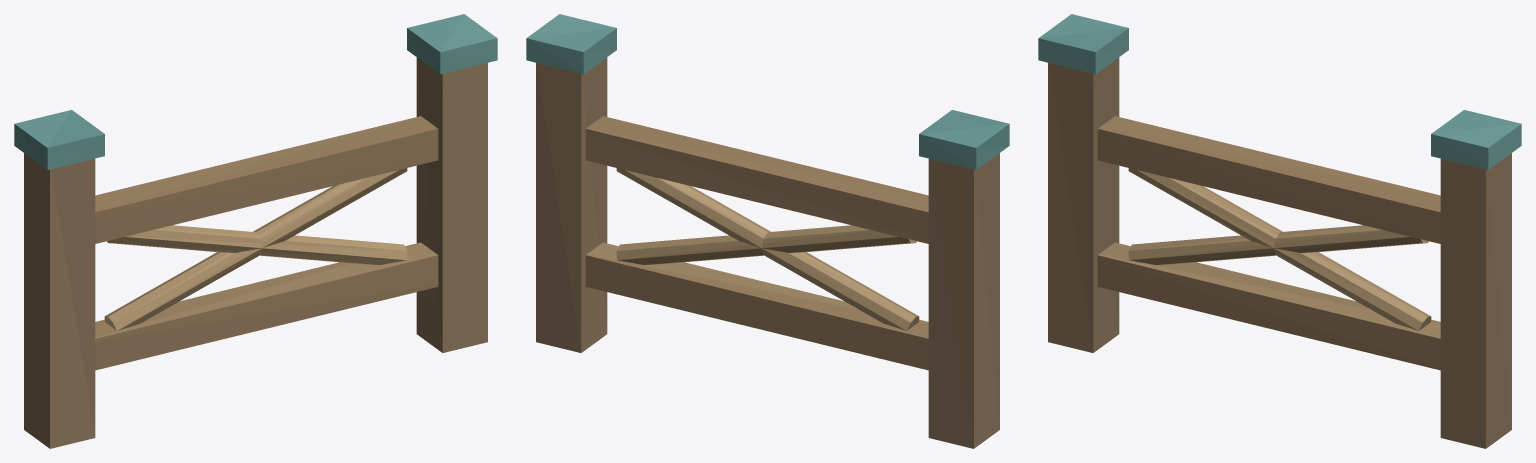
File: fence.glb
3 renders of one model, left to right at view 1: azimuth 30°, elevation 25°; view 2: azimuth 150°, elevation 25°; view 3: azimuth 330°, elevation 25°, orthographic.
Parts seen in each view (by area): view 1: post_-0.65, post_0.65, rail_0.65, rail_0.25, cross_a, cross_b, cap_-0.65, cap_0.65; view 2: post_-0.65, post_0.65, rail_0.65, rail_0.25, cross_a, cross_b, cap_-0.65, cap_0.65; view 3: post_0.65, post_-0.65, rail_0.65, rail_0.25, cross_b, cross_a, cap_0.65, cap_-0.65.
Boxes of the visible parts, x1,y1,x2,y2 form: post_-0.65: (24, 153, 95, 448); post_0.65: (416, 57, 487, 352); rail_0.65: (95, 116, 438, 243); rail_0.25: (95, 242, 438, 370); cross_a: (104, 168, 407, 330); cross_b: (107, 225, 407, 264); cap_-0.65: (14, 110, 104, 169); cap_0.65: (407, 14, 497, 74); post_-0.65: (928, 153, 999, 448); post_0.65: (536, 57, 607, 352); rail_0.65: (585, 116, 928, 243); rail_0.25: (585, 242, 928, 370); cross_a: (616, 168, 919, 330); cross_b: (616, 225, 916, 264); cap_-0.65: (919, 110, 1009, 169); cap_0.65: (526, 14, 616, 74); post_0.65: (1440, 153, 1511, 448); post_-0.65: (1048, 57, 1119, 352); rail_0.65: (1097, 116, 1440, 243); rail_0.25: (1097, 242, 1440, 370); cross_b: (1128, 168, 1431, 330); cross_a: (1128, 225, 1428, 264); cap_0.65: (1431, 110, 1521, 169); cap_-0.65: (1038, 14, 1128, 74).
Size of the model in its own units: 1.49 by 0.965 by 0.19.
